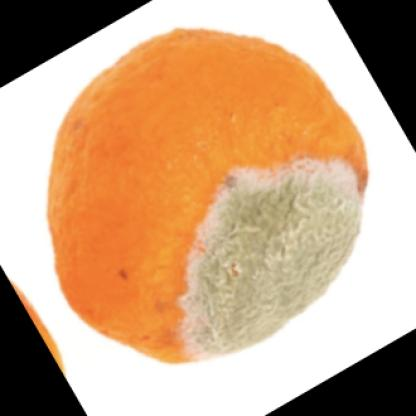rotten: (47, 29, 369, 364)
